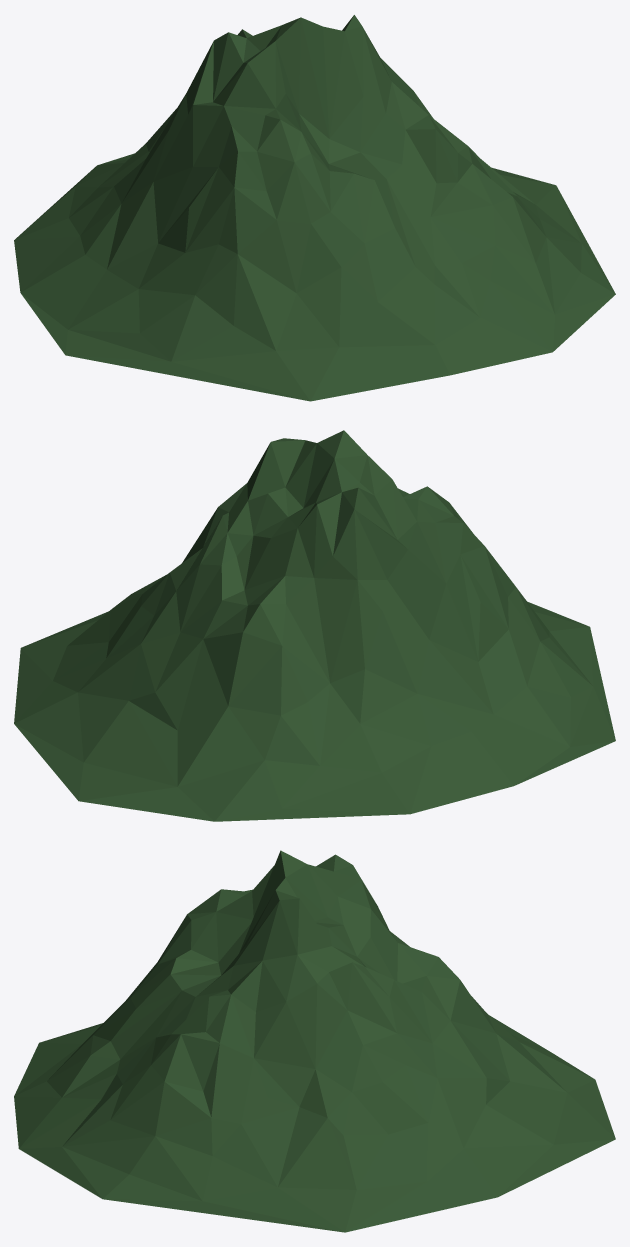
File: mountain1.fbx
3 renders of one model, top to bottom at view 1: azimuth 30°, elevation 25°; view 2: azimuth 150°, elevation 25°; view 3: azimuth 270°, elevation 25°, orthographic. The views are drawn at different scales.
Parts seen in each view (by area): view 1: Landscape.001; view 2: Landscape.001; view 3: Landscape.001.
Boxes of the visible parts, x1,y1,x2,y2 form: Landscape.001: (14,15,615,401); Landscape.001: (14,430,615,821); Landscape.001: (14,850,615,1232).
Size of the model in its own units: 10862 by 5035 by 11038.
